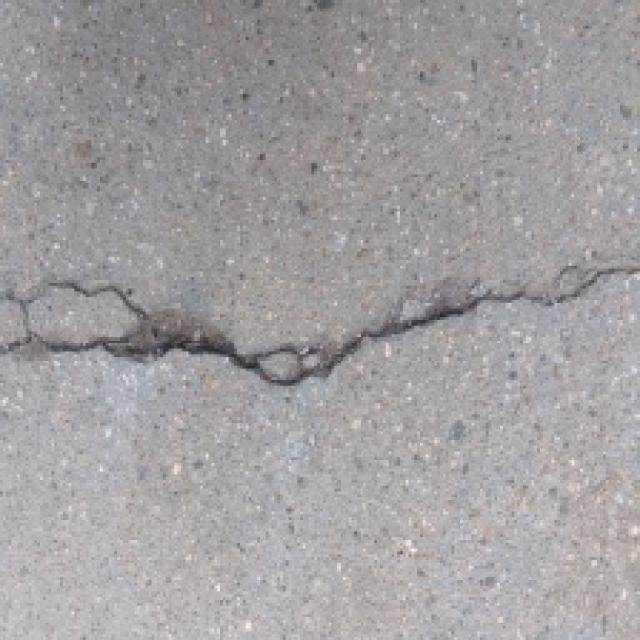crack: (0, 224, 640, 404)
